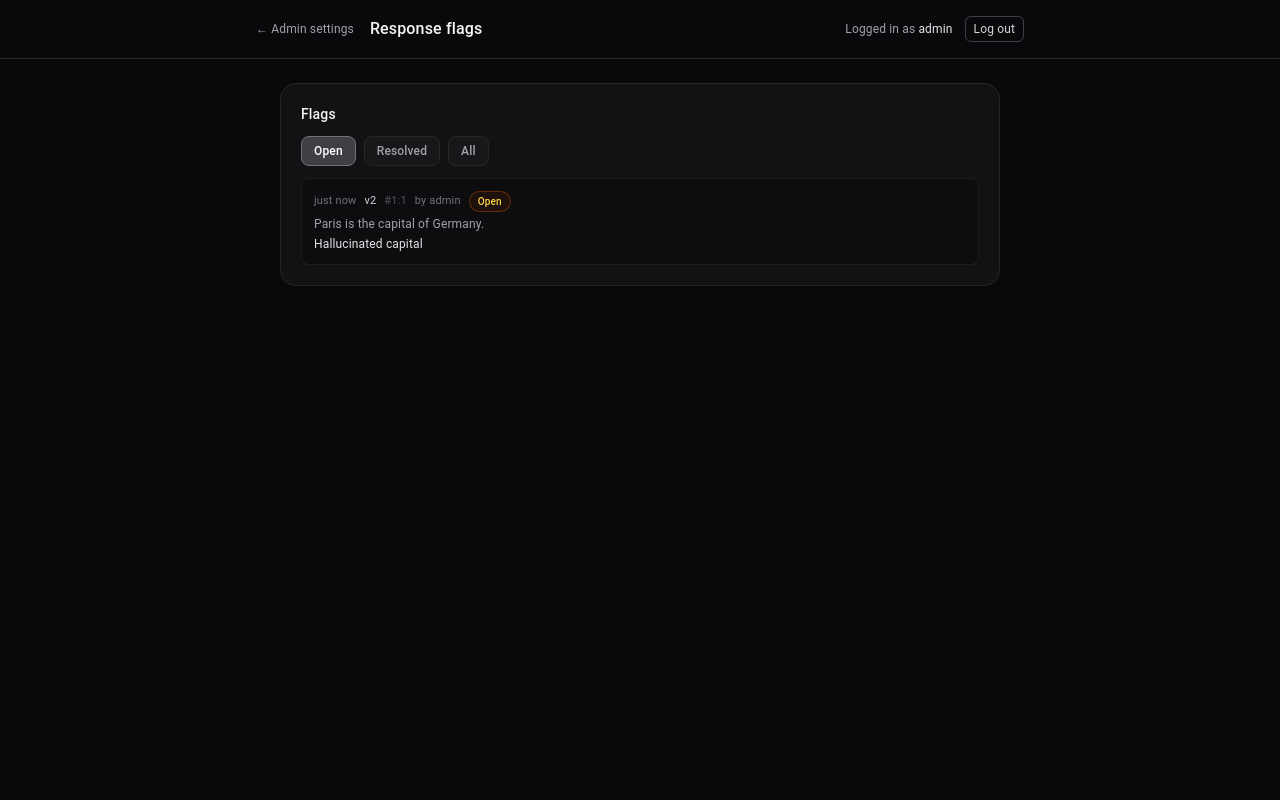
opening a row renders the transcript with the flagged response marked
Click the button named "Hallucinated capital" at (335, 201), box [301,178,979,265]
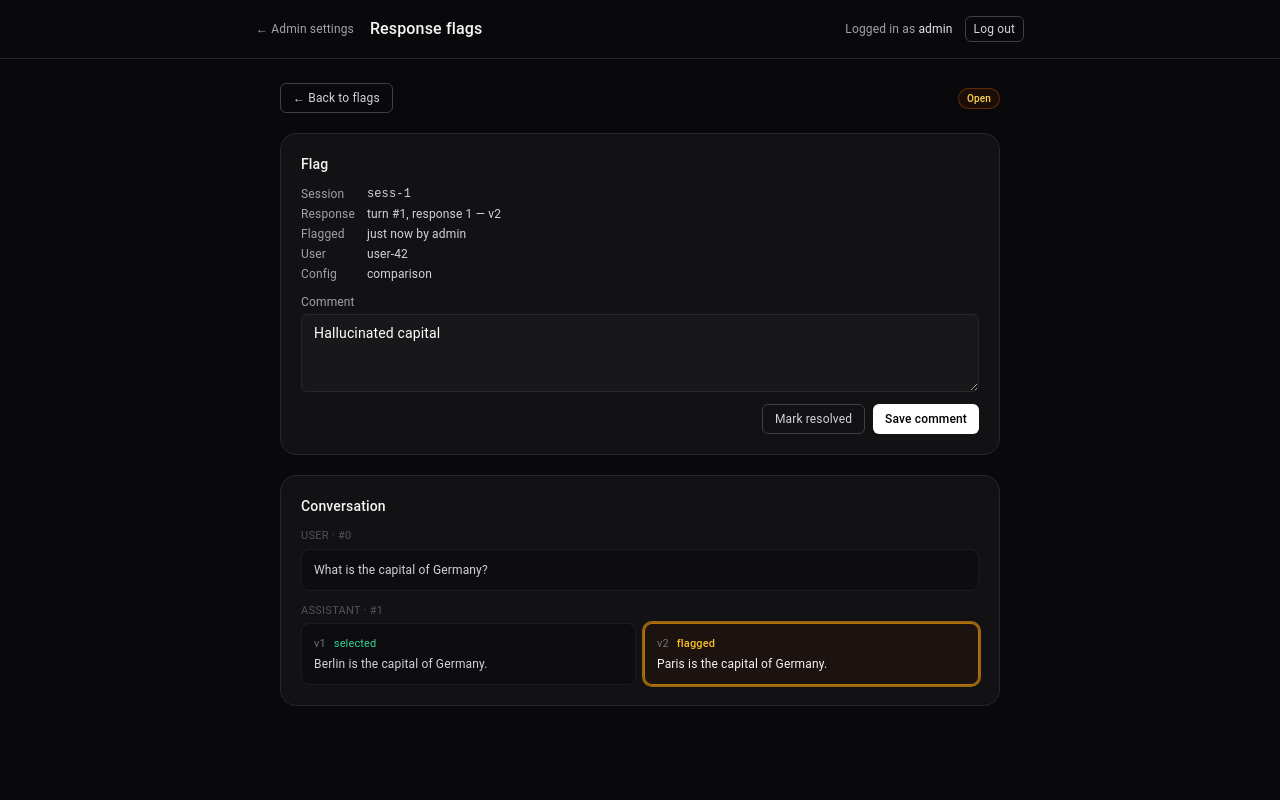
Now the text "user-42" is shown, box [367,247,408,261]
Now the text "What is the capital of Germany?" is shown, box [301,548,979,590]
Now the text "v1 selected Berlin is the capital of Germany." is shown, box [301,623,636,685]
